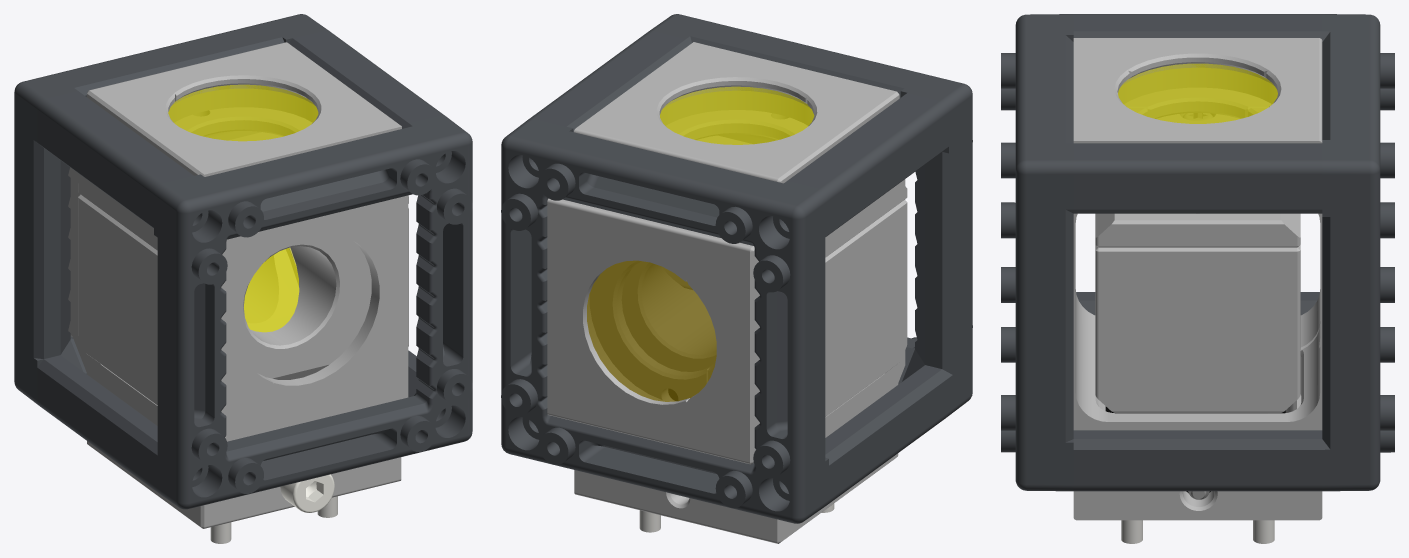
The model's file is ASS_-_2032_-_CUBKINDICSPL+FIL_WLS485_-_V04.glb.
3 views of the same model, side by side, from view 1: azimuth 30°, elevation 25°; view 2: azimuth 150°, elevation 25°; view 3: azimuth 270°, elevation 25° (orthographic). The views are drawn at different scales.
Visible parts, largest first — view 1: PRT - 1003 - CUBHLF111 - V04:2, PRT - 2033 - INSKINSPLLOW:1, PRT - 1003 - CUBHLF111 - V04:1, PRT - 2036 - HOLKINSPLUPP:1, PRT - 2034 - INSKINSPLUPP:1, BUY - Excitation filter - D25.4x4 WLS485:1, BUY - Dichroic filter - 35.6x25.2x1.1 WLS488:1, PRT - 2035 - HOLKINSPLLOW:1, ISO 4762 - Cylinder head screw with hex socket - M4 x 10 - 8, BUY - Kinematic mirror mount - ZJB-0.5-3:1; view 2: PRT - 1003 - CUBHLF111 - V04:1, PRT - 2033 - INSKINSPLLOW:1, PRT - 1003 - CUBHLF111 - V04:2, PRT - 2034 - INSKINSPLUPP:1, PRT - 2036 - HOLKINSPLUPP:1, BUY - Emission filter - D25x1 WLS485:1, BUY - Excitation filter - D25.4x4 WLS485:1, PRT - 2035 - HOLKINSPLLOW:1, BUY - Kinematic mirror mount - ZJB-0.5-3:1; view 3: PRT - 1003 - CUBHLF111 - V04:1, PRT - 1003 - CUBHLF111 - V04:2, PRT - 2036 - HOLKINSPLUPP:1, PRT - 2033 - INSKINSPLLOW:1, PRT - 2034 - INSKINSPLUPP:1, PRT - 2035 - HOLKINSPLLOW:1, BUY - Excitation filter - D25.4x4 WLS485:1, BUY - Kinematic mirror mount - ZJB-0.5-3:1.
Part boxes in pixels (x1,y1,x2,y2): PRT - 1003 - CUBHLF111 - V04:2: (37,30,472,509); PRT - 2033 - INSKINSPLLOW:1: (151,42,408,513); PRT - 1003 - CUBHLF111 - V04:1: (14,14,441,416); PRT - 2036 - HOLKINSPLUPP:1: (78,194,408,405); PRT - 2034 - INSKINSPLUPP:1: (68,75,272,528); BUY - Excitation filter - D25.4x4 WLS485:1: (168,84,318,141); BUY - Dichroic filter - 35.6x25.2x1.1 WLS488:1: (244,247,299,332); PRT - 2035 - HOLKINSPLLOW:1: (78,132,408,250); ISO 4762 - Cylinder head screw with hex socket - M4 x 10 - 8: (280,474,334,512); BUY - Kinematic mirror mount - ZJB-0.5-3:1: (210,496,337,543); PRT - 1003 - CUBHLF111 - V04:1: (501,93,948,523); PRT - 2033 - INSKINSPLLOW:1: (547,42,833,528); PRT - 1003 - CUBHLF111 - V04:2: (529,14,972,504); PRT - 2034 - INSKINSPLUPP:1: (686,76,905,543); PRT - 2036 - HOLKINSPLUPP:1: (622,200,907,416); BUY - Emission filter - D25x1 WLS485:1: (587,260,716,401); BUY - Excitation filter - D25.4x4 WLS485:1: (660,86,814,144); PRT - 2035 - HOLKINSPLLOW:1: (697,136,907,257); BUY - Kinematic mirror mount - ZJB-0.5-3:1: (639,389,834,532); PRT - 1003 - CUBHLF111 - V04:1: (1073,14,1394,491); PRT - 1003 - CUBHLF111 - V04:2: (1001,14,1322,491); PRT - 2036 - HOLKINSPLUPP:1: (1095,245,1300,412); PRT - 2033 - INSKINSPLLOW:1: (1073,70,1322,520); PRT - 2034 - INSKINSPLUPP:1: (1073,38,1322,350); PRT - 2035 - HOLKINSPLLOW:1: (1095,113,1300,247); BUY - Excitation filter - D25.4x4 WLS485:1: (1118,63,1277,123); BUY - Kinematic mirror mount - ZJB-0.5-3:1: (1105,406,1285,543).
Bounding box in the file's own units: 49.8 × 63.9 × 53.8.
